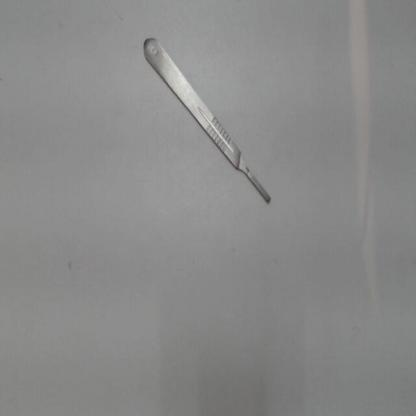No.4 BP Handle: (133, 23, 282, 224)
